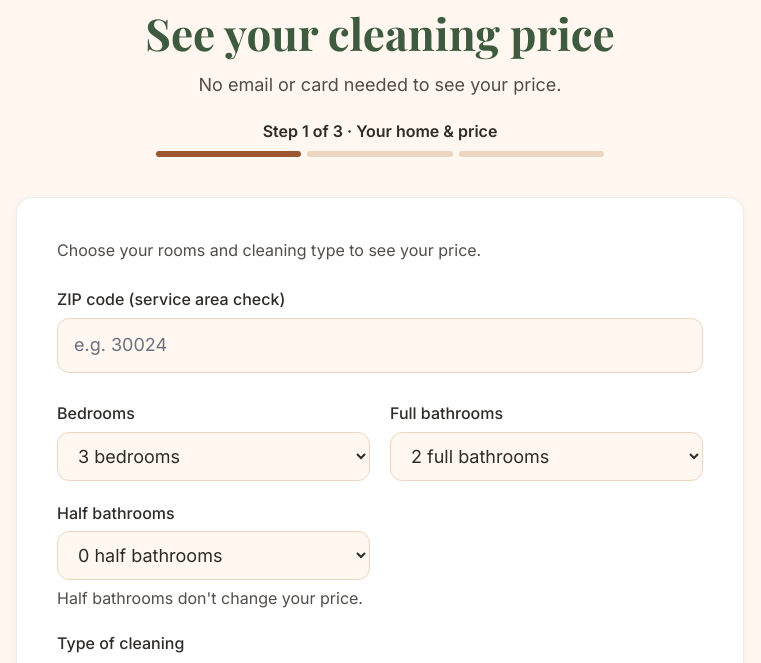
Test case: LB-22 — out-of-area ZIP wins over large-home custom quote › a 6-bedroom home outside the area sees the out-of-area message, not 'Email us for a price'
Select "6 bedrooms" in the dropdown labelled "Bedrooms": (214, 456) [57,432,370,481]
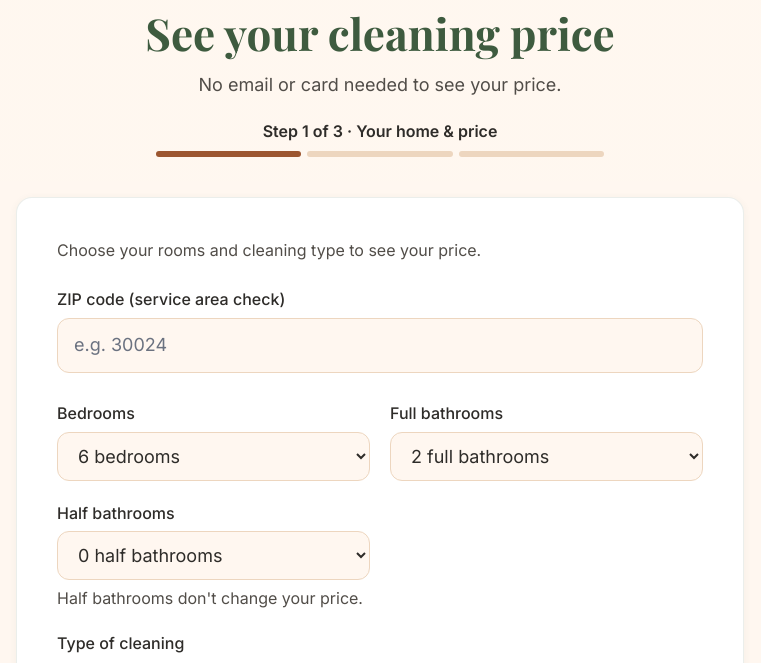
In the field labelled "ZIP code (service area check)": (380, 345) [57,318,703,373], type "90210"
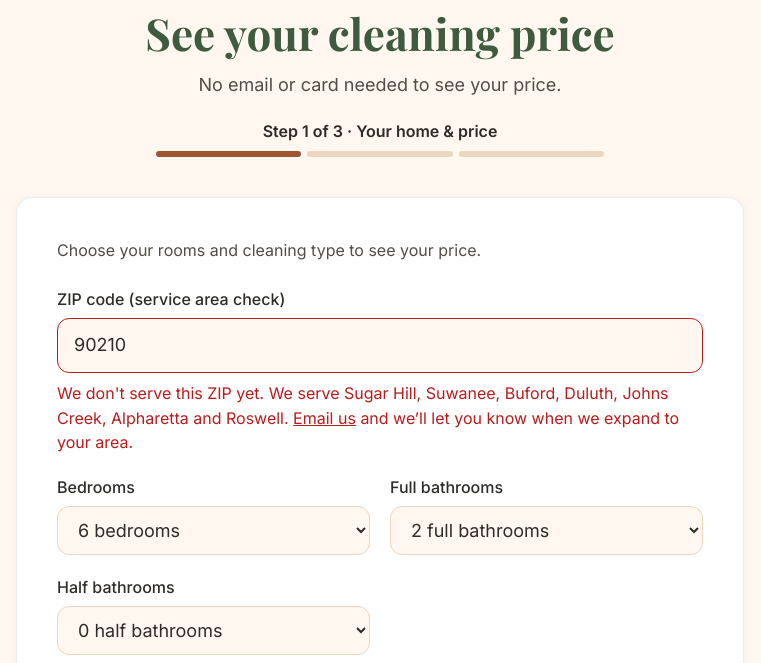
Check: the text "We don't serve this ZIP yet" is shown, box [57,383,669,428]
